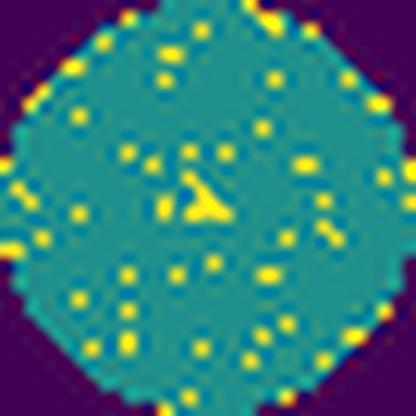Center: (157, 170, 236, 226)
